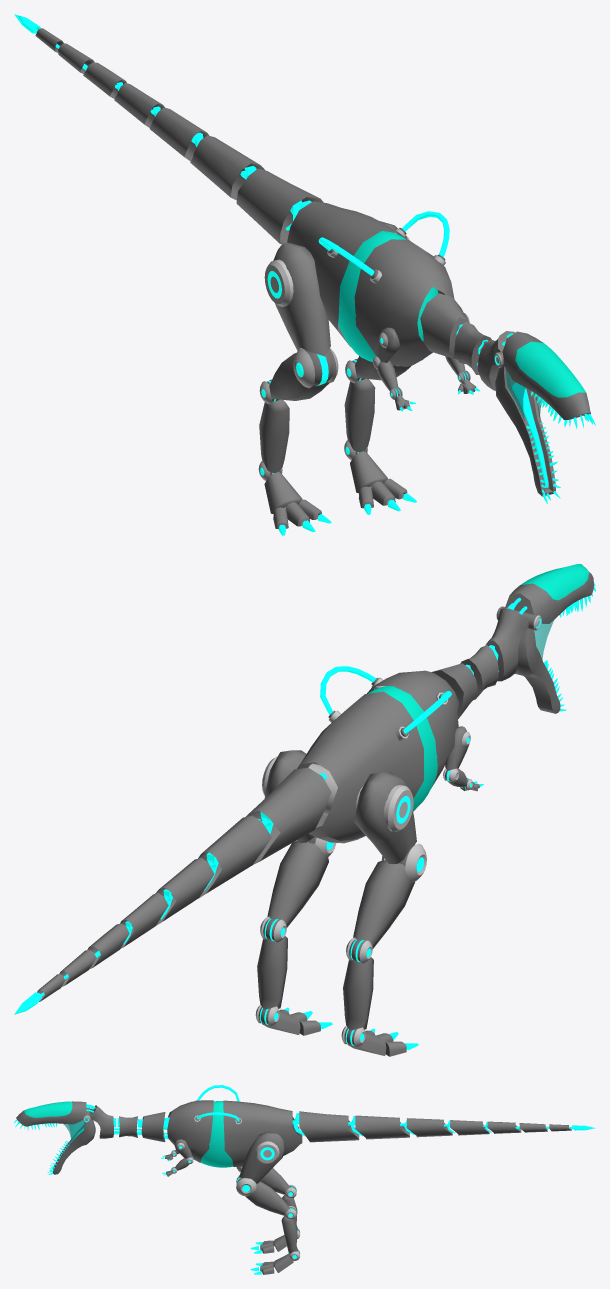
The model's file is masiakasaurus.fbx.
3 renders of one model, top to bottom at view 1: azimuth 30°, elevation 25°; view 2: azimuth 150°, elevation 25°; view 3: azimuth 270°, elevation 25°, orthographic. The views are drawn at different scales.
Visible parts, largest first — view 1: polySurface72, polySurface73, Upper_Jaw, polySurface68, polySurface24 (×2), Tail, pSphere18, Lower_Jaw, polySurface60, Neck3, pCube37 (×2), polySurface61 (+8 smaller); view 2: polySurface73, polySurface66 (×2), Tail, polySurface24 (×2), polySurface68, Upper_Jaw, polySurface72, polySurface60, Lower_Jaw, Legs, Neck1, pSphere18 (+7 smaller); view 3: polySurface73, polySurface72, Tail, Upper_Jaw, polySurface66 (×2), pSphere18, polySurface67, polySurface60, Lower_Jaw, polySurface61, Neck3, Neck1 (+6 smaller).
Boxes of the visible parts, bbox=[...] form: polySurface72: bbox=[354, 239, 454, 366]; polySurface73: bbox=[287, 201, 406, 346]; Upper_Jaw: bbox=[502, 331, 590, 419]; polySurface68: bbox=[273, 243, 330, 356]; polySurface24 (×2): bbox=[259, 378, 375, 473]; Tail: bbox=[236, 168, 323, 244]; pSphere18: bbox=[338, 231, 438, 365]; Lower_Jaw: bbox=[495, 366, 555, 496]; polySurface60: bbox=[190, 135, 265, 200]; Neck3: bbox=[420, 293, 469, 359]; pCube37 (×2): bbox=[264, 451, 387, 514]; polySurface61: bbox=[149, 107, 208, 161]; polySurface73: bbox=[297, 691, 423, 843]; polySurface66 (×2): bbox=[267, 840, 414, 948]; Tail: bbox=[246, 767, 331, 864]; polySurface24 (×2): bbox=[257, 936, 373, 1030]; polySurface68: bbox=[354, 772, 416, 863]; Upper_Jaw: bbox=[505, 564, 594, 623]; polySurface72: bbox=[367, 670, 458, 788]; polySurface60: bbox=[198, 815, 271, 898]; Lower_Jaw: bbox=[515, 628, 560, 713]; Legs: bbox=[262, 756, 413, 831]; Neck1: bbox=[485, 608, 529, 681]; pSphere18: bbox=[368, 686, 437, 811]; polySurface73: bbox=[223, 1100, 302, 1166]; polySurface72: bbox=[167, 1100, 213, 1162]; Tail: bbox=[299, 1111, 359, 1142]; Upper_Jaw: bbox=[16, 1101, 86, 1126]; polySurface66 (×2): bbox=[245, 1168, 289, 1215]; pSphere18: bbox=[200, 1101, 233, 1167]; polySurface67: bbox=[239, 1131, 284, 1183]; polySurface60: bbox=[355, 1115, 409, 1139]; Lower_Jaw: bbox=[53, 1119, 95, 1174]; polySurface61: bbox=[406, 1118, 452, 1137]; Neck3: bbox=[141, 1112, 165, 1142]; Neck1: bbox=[89, 1105, 113, 1138].
Bounding box in the file's own units: 6.35 × 14.33 × 46.93.
